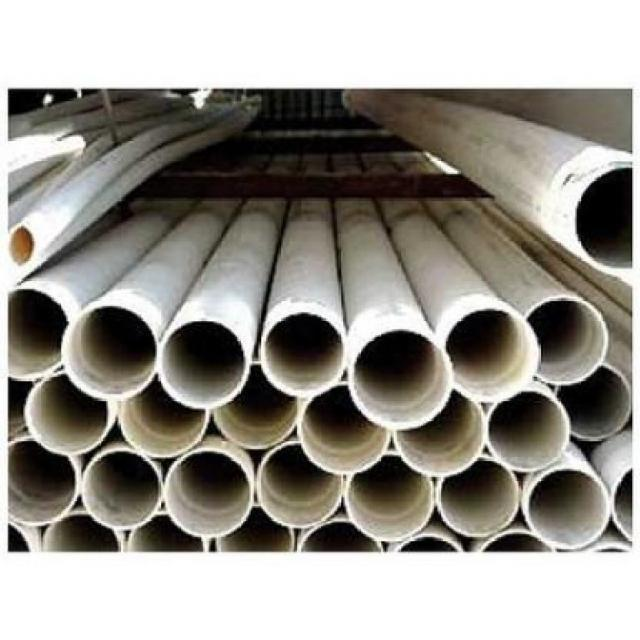pipe: (350, 329, 453, 429), (61, 306, 157, 400), (445, 306, 539, 402), (344, 451, 435, 542), (297, 384, 390, 473), (158, 318, 247, 409), (394, 392, 488, 477), (165, 449, 253, 538), (119, 375, 210, 458), (259, 310, 344, 398), (24, 373, 112, 458), (258, 443, 344, 529), (525, 297, 608, 386), (214, 363, 298, 449), (526, 467, 611, 550), (487, 390, 572, 470), (436, 456, 521, 536), (81, 448, 163, 530), (553, 359, 632, 442), (7, 437, 80, 526), (573, 168, 633, 273), (8, 288, 68, 381), (216, 506, 295, 552), (299, 519, 384, 561), (128, 512, 209, 555), (43, 515, 123, 552), (388, 536, 461, 550)
